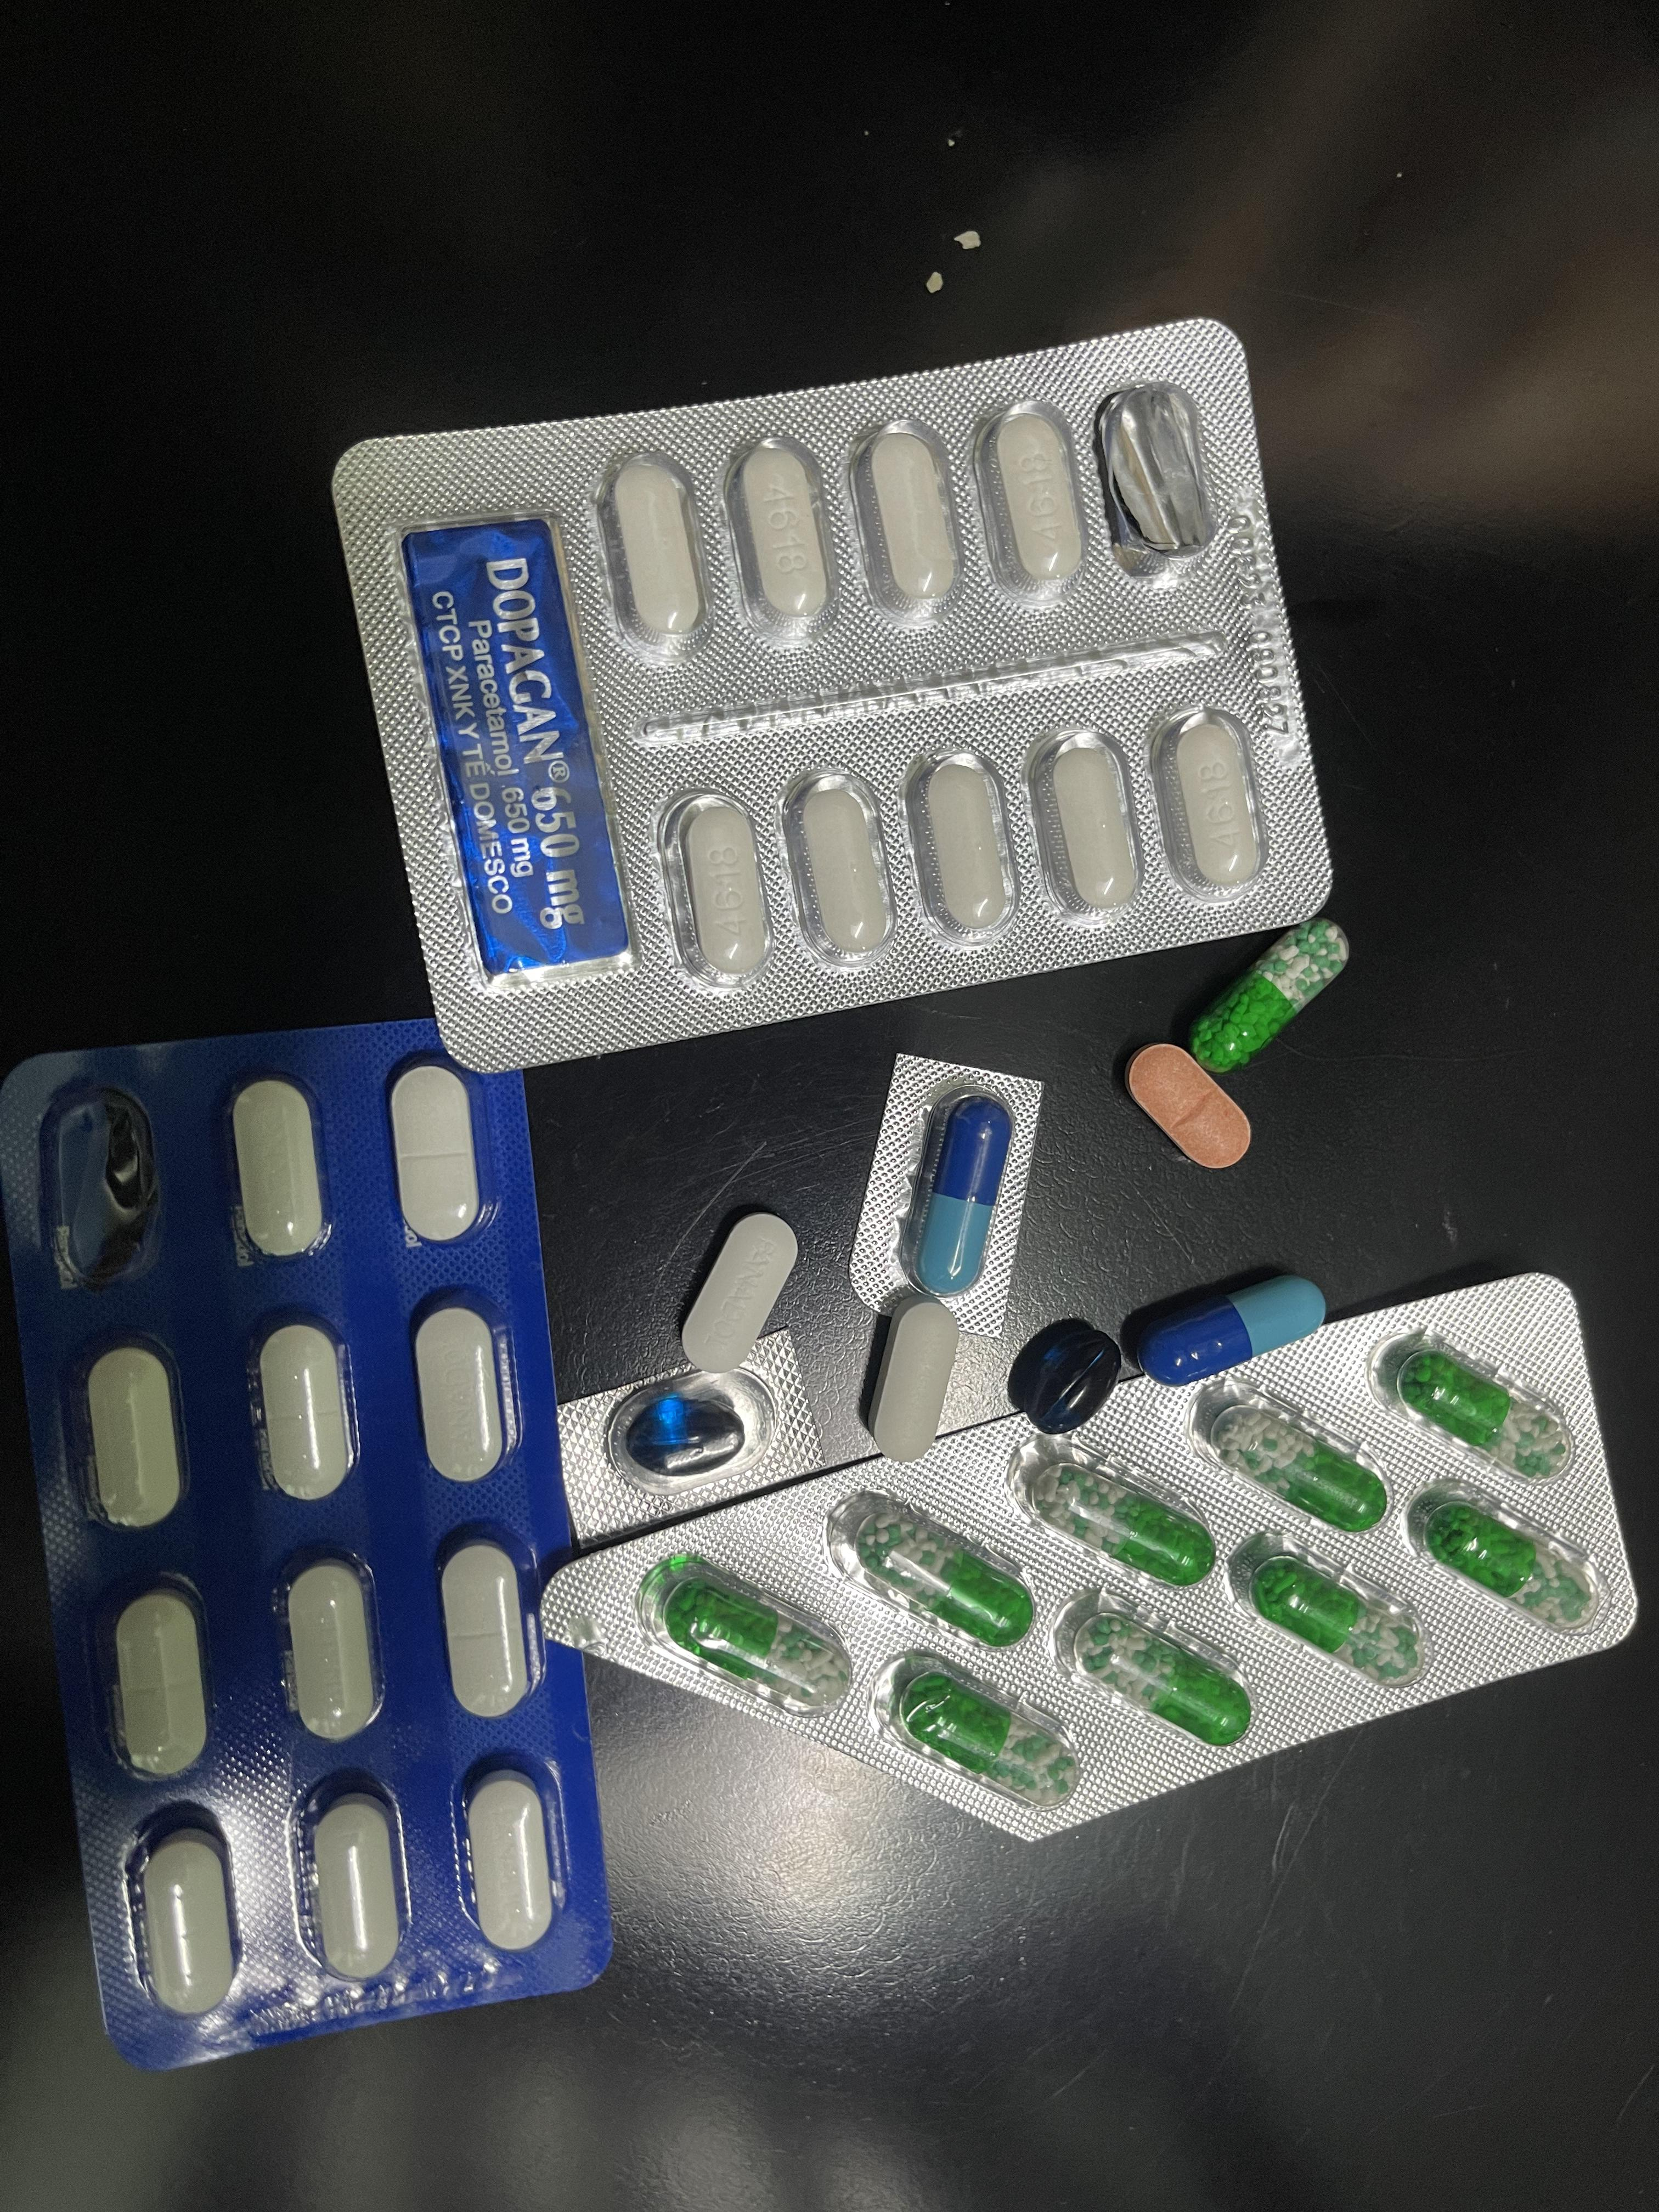Lincomyxin_500mg: (1006, 1320, 1119, 1433), (626, 1392, 744, 1475)
Loratadine_10mg: (1126, 1054, 1253, 1170)
Paracetamol_350mg: (112, 1583, 214, 1778), (413, 1298, 518, 1487), (680, 1209, 803, 1369), (84, 1343, 188, 1531), (138, 1827, 239, 2015), (307, 1794, 404, 1982), (256, 1322, 356, 1505), (439, 1538, 538, 1721), (232, 1078, 329, 1263), (286, 1559, 382, 1742), (465, 1770, 558, 1954), (389, 1066, 483, 1245)
Paracetamol_500mg: (849, 418, 964, 625), (596, 451, 711, 658), (972, 399, 1087, 606), (659, 791, 775, 989), (904, 751, 1019, 949), (779, 772, 892, 968), (1150, 709, 1265, 900), (1028, 728, 1140, 925), (735, 441, 830, 622), (866, 1292, 964, 1463)
Paracetamol_650mg: (875, 1648, 1082, 1806), (830, 1489, 1039, 1646), (1225, 1527, 1425, 1689), (1187, 923, 1347, 1073), (671, 1573, 847, 1709), (1077, 1611, 1249, 1747), (1391, 1346, 1568, 1477), (1420, 1501, 1598, 1627), (1039, 1465, 1215, 1585), (1227, 1414, 1391, 1533)
pill: (1131, 1271, 1326, 1388), (910, 1099, 1012, 1291)
